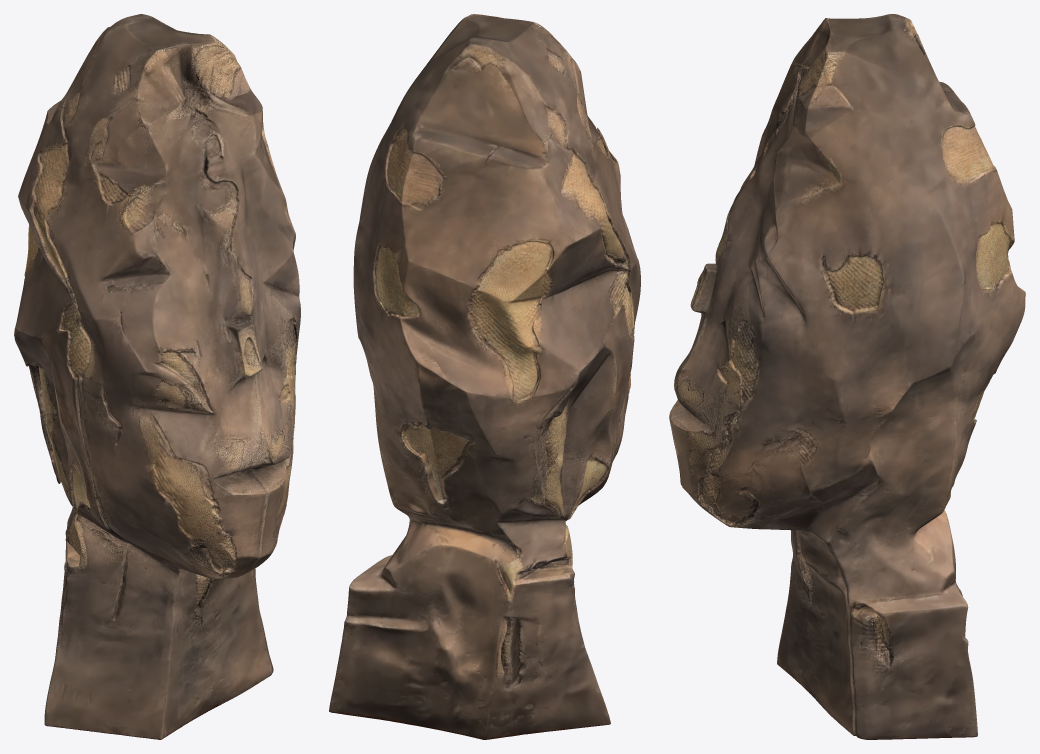
File: shah-faceted-head.glb
3 renders of one model, left to right at view 1: azimuth 30°, elevation 25°; view 2: azimuth 150°, elevation 25°; view 3: azimuth 270°, elevation 25°, orthographic.
Parts seen in each view (by area): view 1: mesh1; view 2: mesh1; view 3: mesh1.
Boxes of the visible parts, x1,y1,x2,y2 form: mesh1: (14, 14, 300, 739); mesh1: (329, 14, 640, 739); mesh1: (669, 14, 1025, 739).
Size of the model in its own units: 0.6998 by 1.9 by 0.9291.
1 material, 1 textured.
